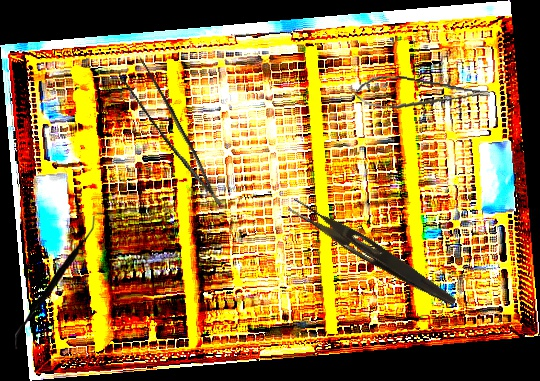Dressing Forceps: (284, 197, 462, 309)
Micro Scissor: (353, 70, 492, 122)
Spatula Surgical: (14, 213, 97, 352)
Tissue Forceps: (114, 51, 223, 220)
